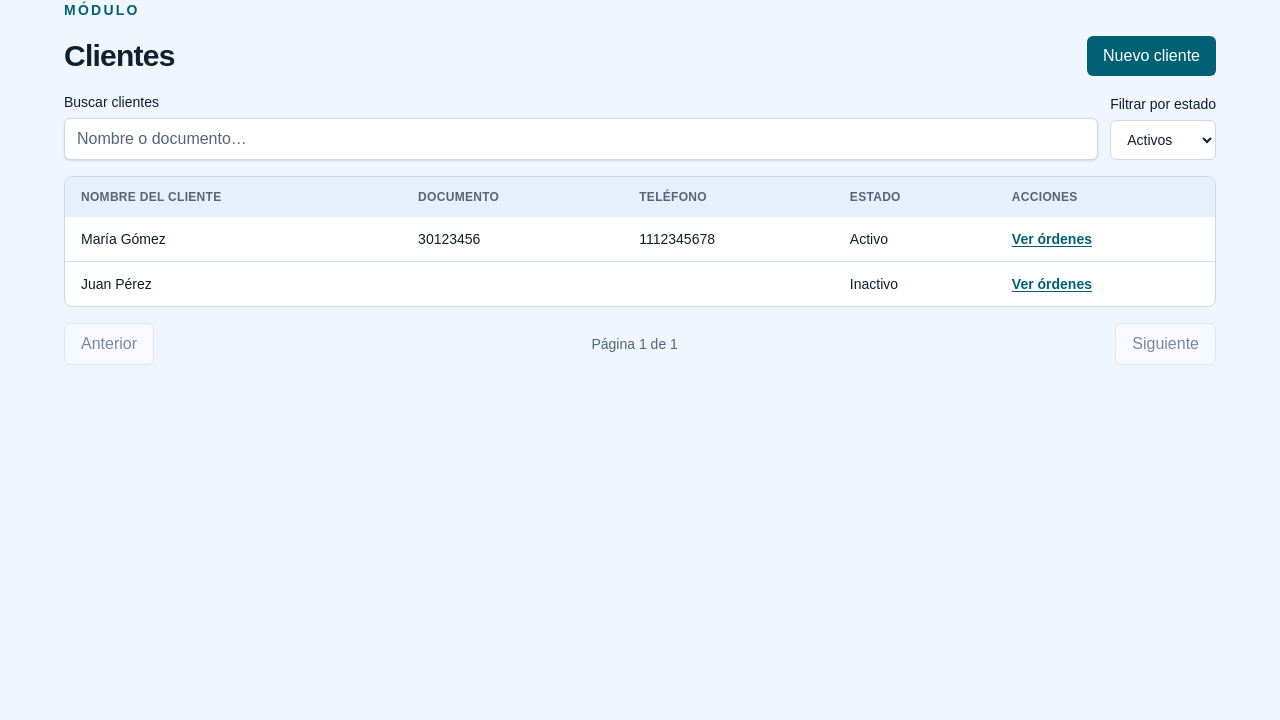
it: ClientesPage › shows a blocking duplicate warning that requires acknowledgment
Check: the text "María Gómez" is shown, box [65,217,402,262]
Click the button "Nuevo cliente" at (1152, 56), box [1087,36,1216,76]
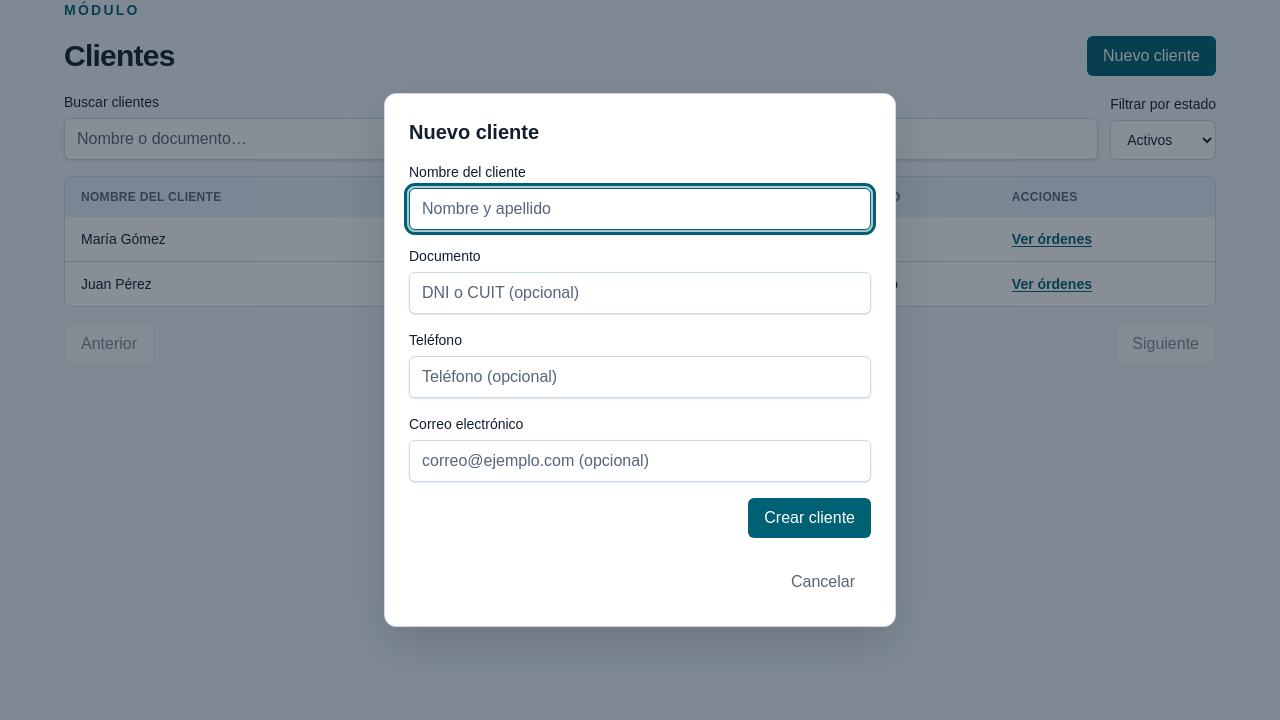
Type "Ana Ruiz" into the field labelled "Nombre del cliente" at (640, 209), box [409,188,871,230]
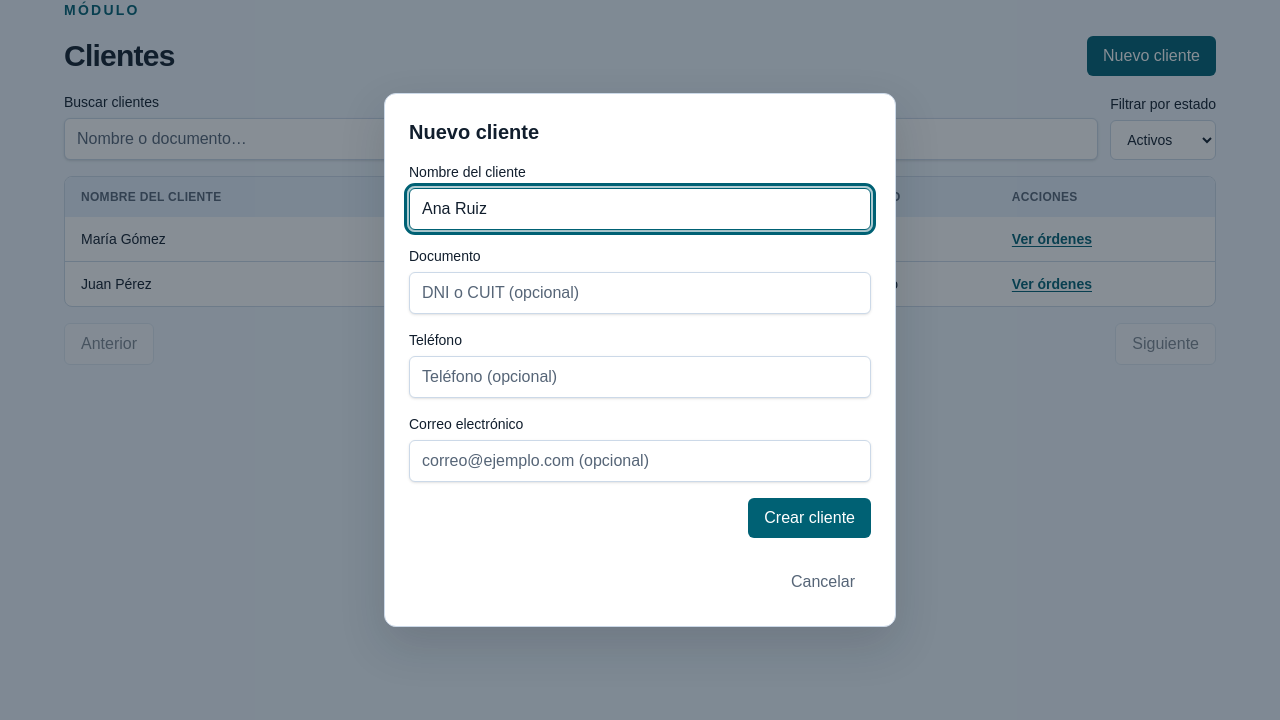
Type "maria@example.com" into the field labelled "Correo electrónico" at (640, 461), box [409,440,871,482]
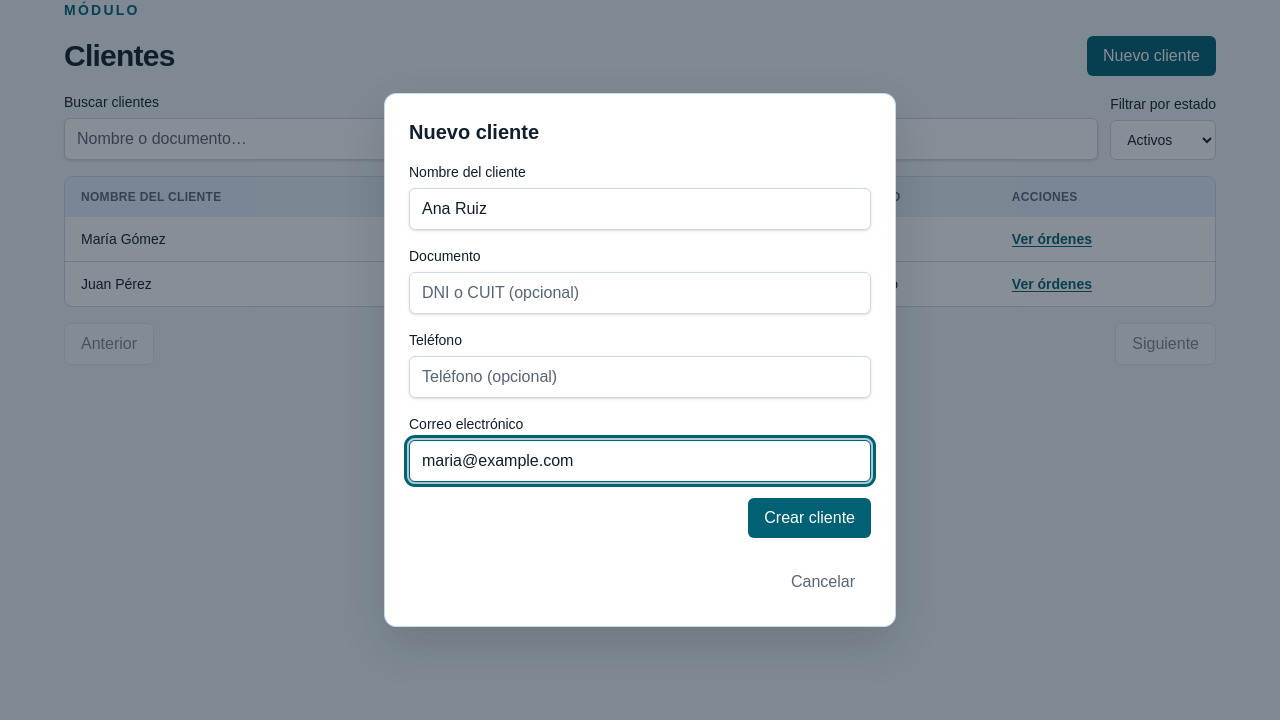
Click the button "Crear cliente" at (810, 518), box [748,498,871,538]
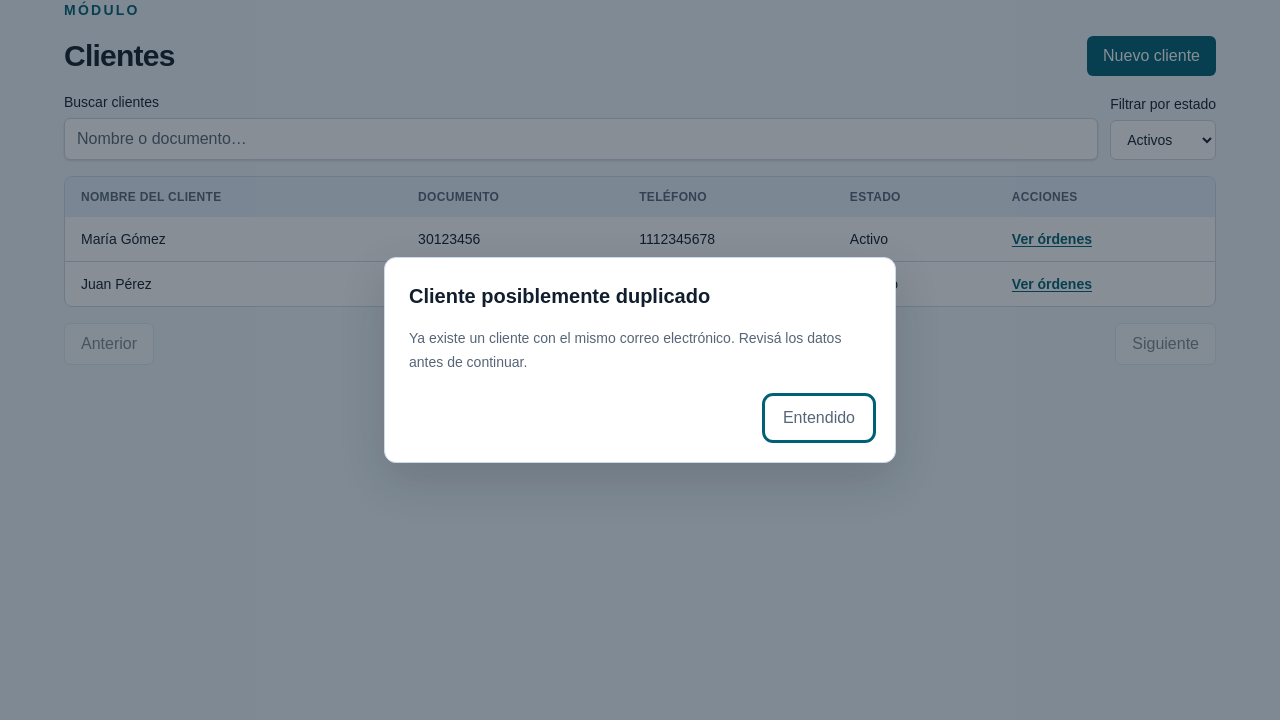
Check: the dialog shows "correo electrónico", box [620,330,731,346]
Click the button "Entendido" at (819, 418), box [767,398,871,438]
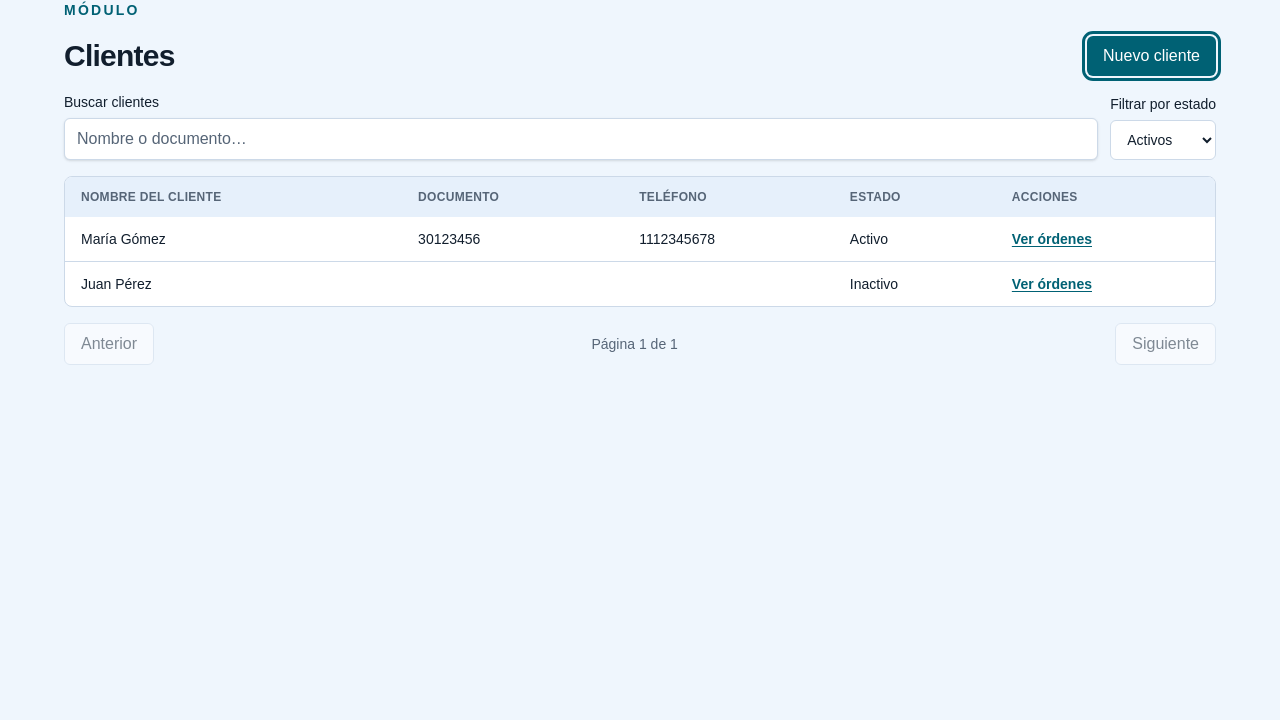
Check: the dialog is gone
